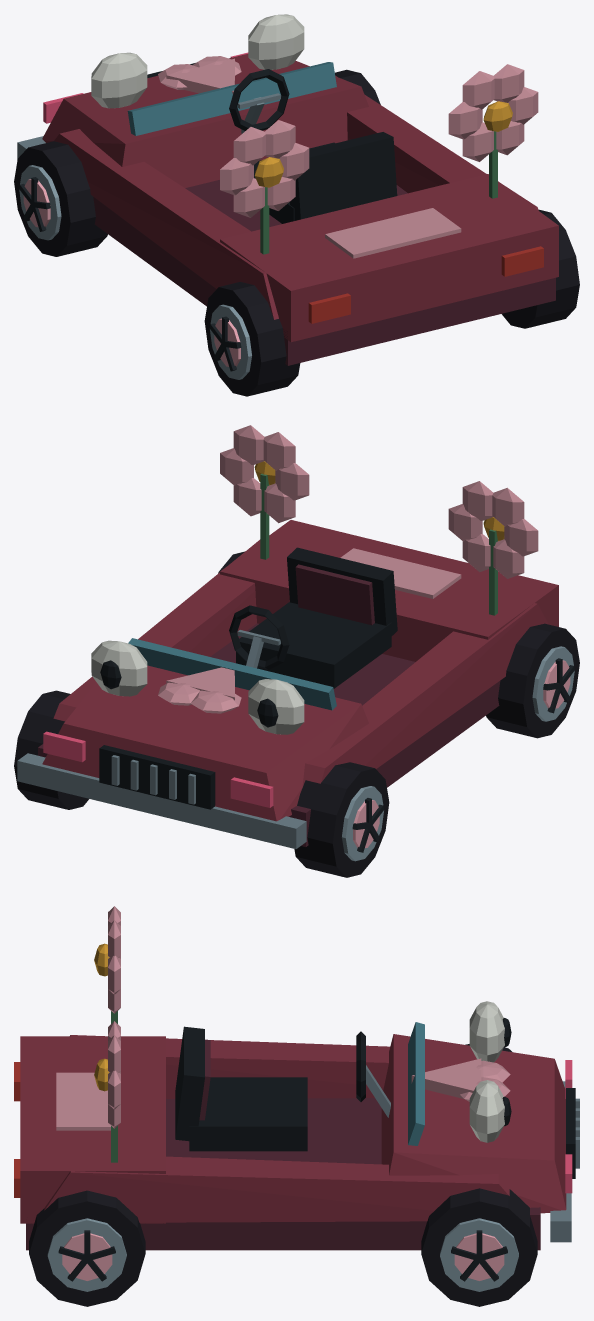
The model's file is kart.glb.
3 views of the same model, one above another, from view 1: azimuth 30°, elevation 25°; view 2: azimuth 150°, elevation 25°; view 3: azimuth 270°, elevation 25° (orthographic). The views are drawn at different scales.
Parts seen in each view (by area): view 1: identity-sedan-sedan-road-car-body, identity-sedan-motif-flowers, identity-sedan-driver-cockpit, wheel-front-left, wheel-rear-left, identity-sedan-motif-eyes, wheel-rear-right, identity-sedan-motif-heart, wheel-front-right; view 2: identity-sedan-sedan-road-car-body, identity-sedan-driver-cockpit, identity-sedan-motif-flowers, wheel-front-left, wheel-rear-left, identity-sedan-motif-eyes, wheel-front-right, identity-sedan-motif-heart; view 3: identity-sedan-sedan-road-car-body, identity-sedan-driver-cockpit, wheel-front-right, wheel-rear-right, identity-sedan-motif-eyes, identity-sedan-motif-flowers, identity-sedan-motif-heart.
Part boxes in pixels (left/top/right/bottom): identity-sedan-sedan-road-car-body: left=17, top=52, right=558, bottom=365; identity-sedan-motif-flowers: left=220, top=64, right=538, bottom=254; identity-sedan-driver-cockpit: left=229, top=69, right=397, bottom=223; wheel-front-left: left=14, top=141, right=107, bottom=256; wheel-rear-left: left=204, top=282, right=300, bottom=396; identity-sedan-motif-eyes: left=91, top=14, right=304, bottom=108; wheel-rear-right: left=502, top=209, right=579, bottom=328; identity-sedan-motif-heart: left=158, top=56, right=241, bottom=93; wheel-front-right: left=335, top=69, right=380, bottom=104; identity-sedan-sedan-road-car-body: left=17, top=520, right=558, bottom=848; identity-sedan-driver-cockpit: left=229, top=547, right=397, bottom=688; identity-sedan-motif-flowers: left=220, top=425, right=538, bottom=615; wheel-front-left: left=294, top=762, right=389, bottom=877; wheel-rear-left: left=486, top=623, right=579, bottom=738; identity-sedan-motif-eyes: left=91, top=640, right=304, bottom=734; wheel-front-right: left=14, top=690, right=88, bottom=809; identity-sedan-motif-heart: left=158, top=667, right=241, bottom=713; identity-sedan-sedan-road-car-body: left=14, top=1022, right=579, bottom=1250; identity-sedan-driver-cockpit: left=175, top=1026, right=390, bottom=1151; wheel-front-right: left=421, top=1188, right=537, bottom=1306; wheel-rear-right: left=29, top=1190, right=145, bottom=1306; identity-sedan-motif-eyes: left=469, top=1001, right=511, bottom=1142; identity-sedan-motif-flowers: left=94, top=906, right=120, bottom=1162; identity-sedan-motif-heart: left=411, top=1058, right=510, bottom=1101.
Size of the model in its own units: 2.07 by 1.46 by 2.92.
